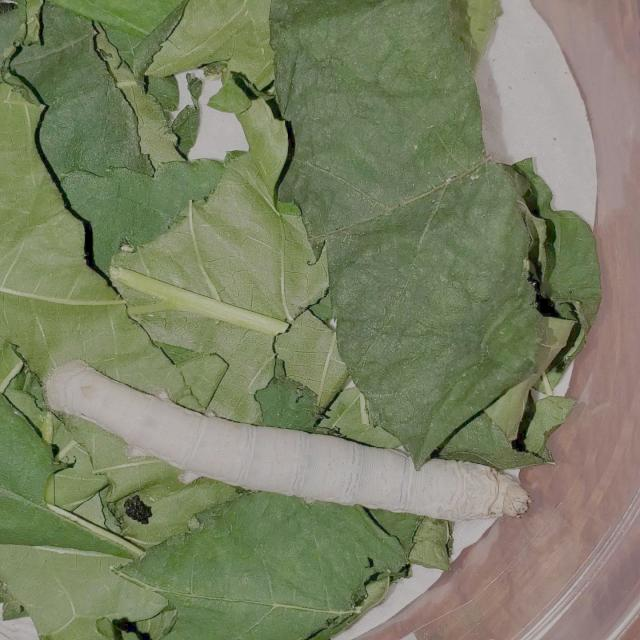Healthy: (39, 347, 535, 542)
